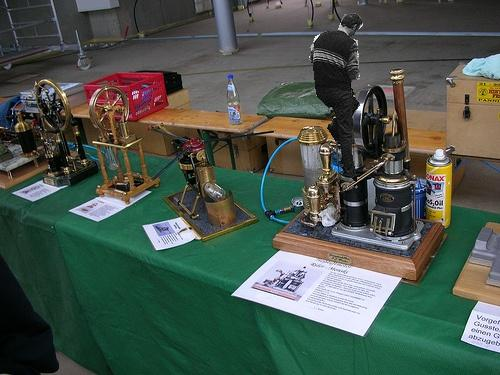tampered: (310, 14, 363, 182)
